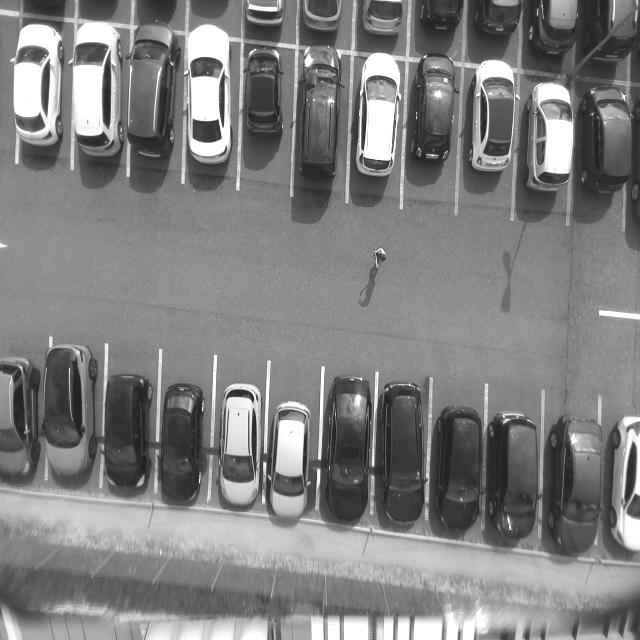car: (547, 413, 607, 557), (42, 342, 99, 484), (126, 17, 179, 164), (325, 375, 376, 525), (72, 19, 123, 166), (379, 381, 427, 528), (185, 27, 235, 166), (489, 411, 540, 542), (295, 46, 344, 182), (434, 406, 486, 533), (14, 22, 64, 154), (353, 50, 404, 178), (466, 59, 519, 178), (104, 375, 156, 494), (581, 83, 634, 199), (217, 382, 264, 510), (160, 382, 207, 504), (410, 50, 458, 168), (523, 83, 573, 193), (270, 400, 314, 520), (1, 358, 39, 482), (245, 46, 285, 136)
